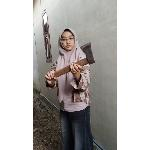Kapak: (52, 42, 99, 80)
